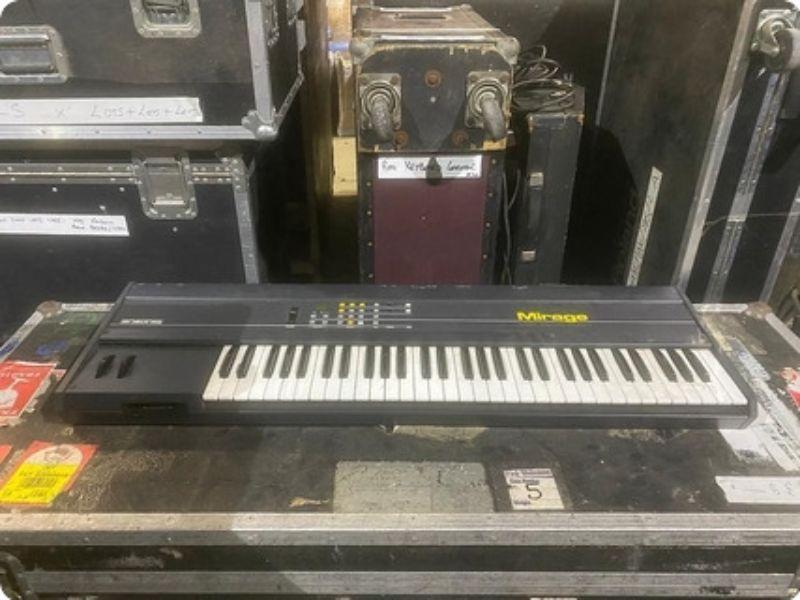synthesizer: (64, 266, 763, 428)
